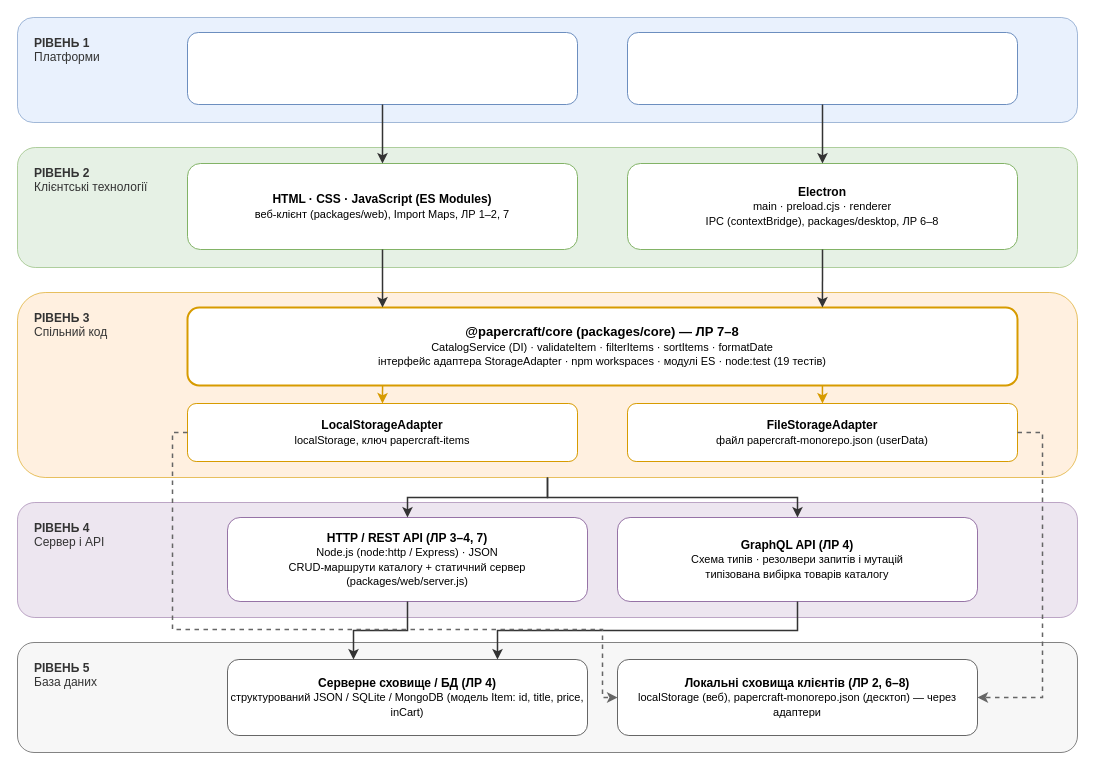
Some shapes in this 1095 by 770 pixel diagram are drawn without their labels. Each missing label, with the centre of its shape:
Браузер (WebView) Chrome, Safari, Edge (Desktop / Mobile Web): (382,68)
Десктопна ОС Windows, macOS, Linux: (822,68)
